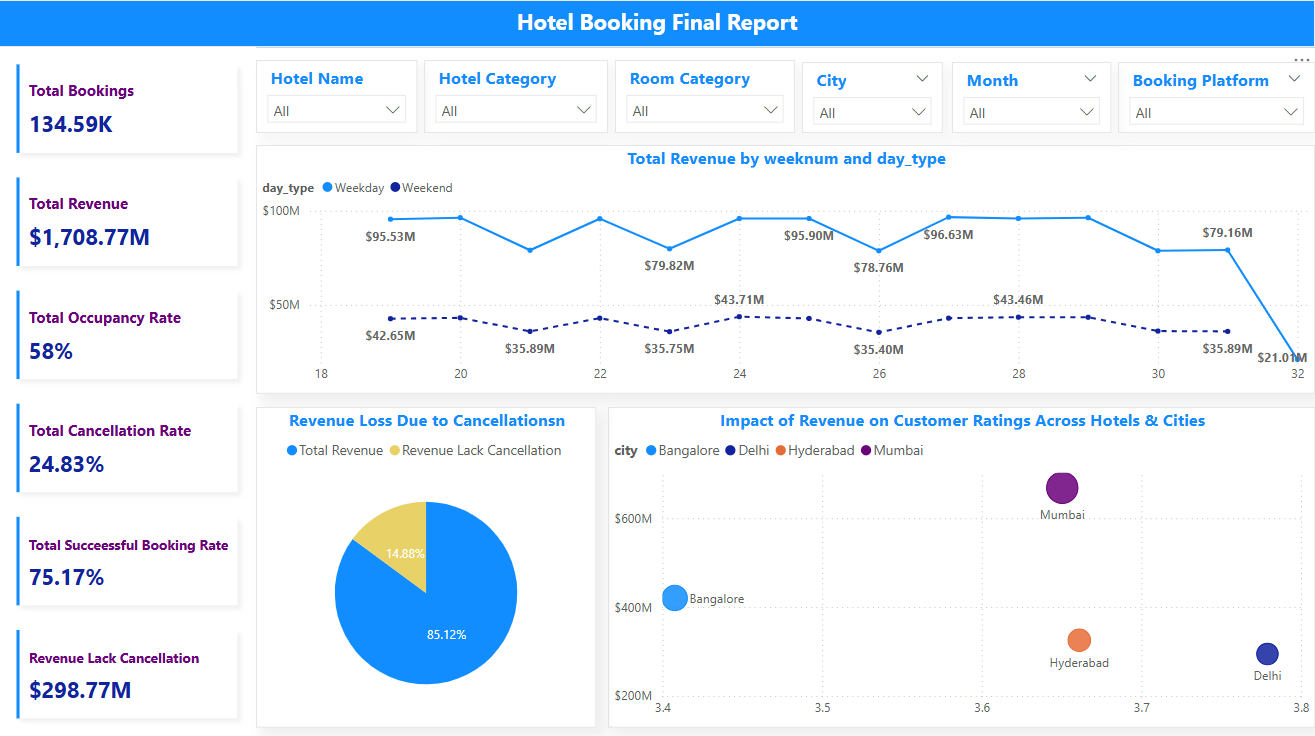

Layout of this report page (visuals, bound fields, positions):
{"tool":"powerbi","page":{"name":"Home page 2","canvas":[1280,720],"ordinal":1},"visuals":[{"type":"textbox","box":[0,0,1280,45.7],"z":0},{"type":"cardVisual","fields":{"Data":["Measures (2).Total Bookings","Measures (2).Total Revenue","Measures (2).Total Occupancy Rate","Measures (2).Total Cancellation Rate","Measures (2).Total Succeessful Booking Rate","Measures (2).Revenue Lack Cancellation"]},"box":[0,45.7,250,674],"z":1000},{"type":"group","id":"g1","title":"Group 1","box":[250,58,1030.1,71],"z":2000},{"type":"slicer","fields":{"Values":["public dim_hotels.category"]},"box":[413.4,58,179,71],"z":2000,"group":"g1"},{"type":"slicer","fields":{"Values":["public dim_hotels.property_name"]},"box":[250,58,156.6,71],"z":3000,"group":"g1"},{"type":"lineChart","fields":{"Category":["public dim_date.weeknum"],"Series":["public dim_date.day_type"],"Y":["Measures (2).Total Revenue"]},"box":[250,141,1030,242.2],"z":3000},{"type":"slicer","fields":{"Values":["public dim_rooms.room_class"]},"box":[599.2,58,175.1,71],"z":4000,"group":"g1"},{"type":"slicer","fields":{"Values":["public dim_date.month"]},"box":[926.9,60.3,154.7,69.1],"z":4000},{"type":"slicer","fields":{"Values":["public dim_hotels.city"]},"box":[781.1,60,137.1,69.1],"z":5000,"group":"g1"},{"type":"scatterChart","title":"Impact of Revenue on Customer Ratings Across Hotels & Cities","fields":{"Series":["public dim_hotels.city"],"Y":["Measures (2).Total Revenue"],"X":["public fact_bookings.ratings_given"],"Size":["Measures (2).Total Revenue"]},"box":[592.3,395.9,687.7,312.2],"z":5000},{"type":"slicer","fields":{"Values":["public fact_bookings.booking_platform"]},"box":[1088.4,60,191.6,69.1],"z":6000,"group":"g1"},{"type":"pieChart","title":"Revenue Loss Due to Cancellationsn","fields":{"Y":["Measures (2).Total Revenue","Measures (2).Revenue Lack Cancellation"]},"box":[250,395.9,330.7,312.2],"z":6000}]}

Visuals, with their boxes in screenshot pixels (x1, y1, x2, y2), scaled from the page's 1280x720 canvas onto the 1315x736 screenshot:
textbox: 0/0/1314/47
cardVisual - Measures (2).Total Bookings x Measures (2).Total Revenue: 0/47/257/735
"Group 1" group: 257/59/1314/132
slicer - public dim_hotels.category: 425/59/609/132
slicer - public dim_hotels.property_name: 257/59/418/132
lineChart - public dim_date.weeknum x public dim_date.day_type: 257/144/1314/392
slicer - public dim_rooms.room_class: 616/59/795/132
slicer - public dim_date.month: 952/62/1111/132
slicer - public dim_hotels.city: 802/61/943/132
"Impact of Revenue on Customer Ratings Across Hotels & Cities" scatterChart: 608/405/1314/724
slicer - public fact_bookings.booking_platform: 1118/61/1314/132
"Revenue Loss Due to Cancellationsn" pieChart: 257/405/597/724
